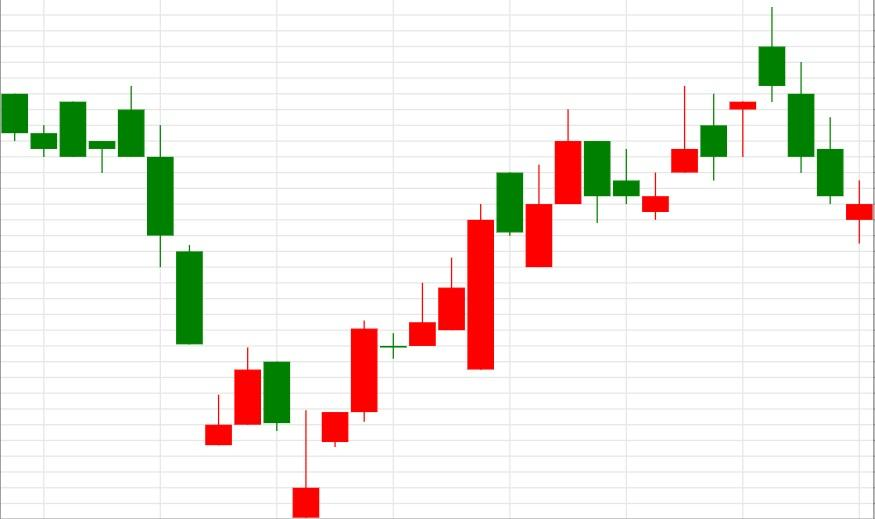inverse_hammer_rise: (233, 347, 320, 519)
three_black_crows_fall: (642, 7, 844, 220)
